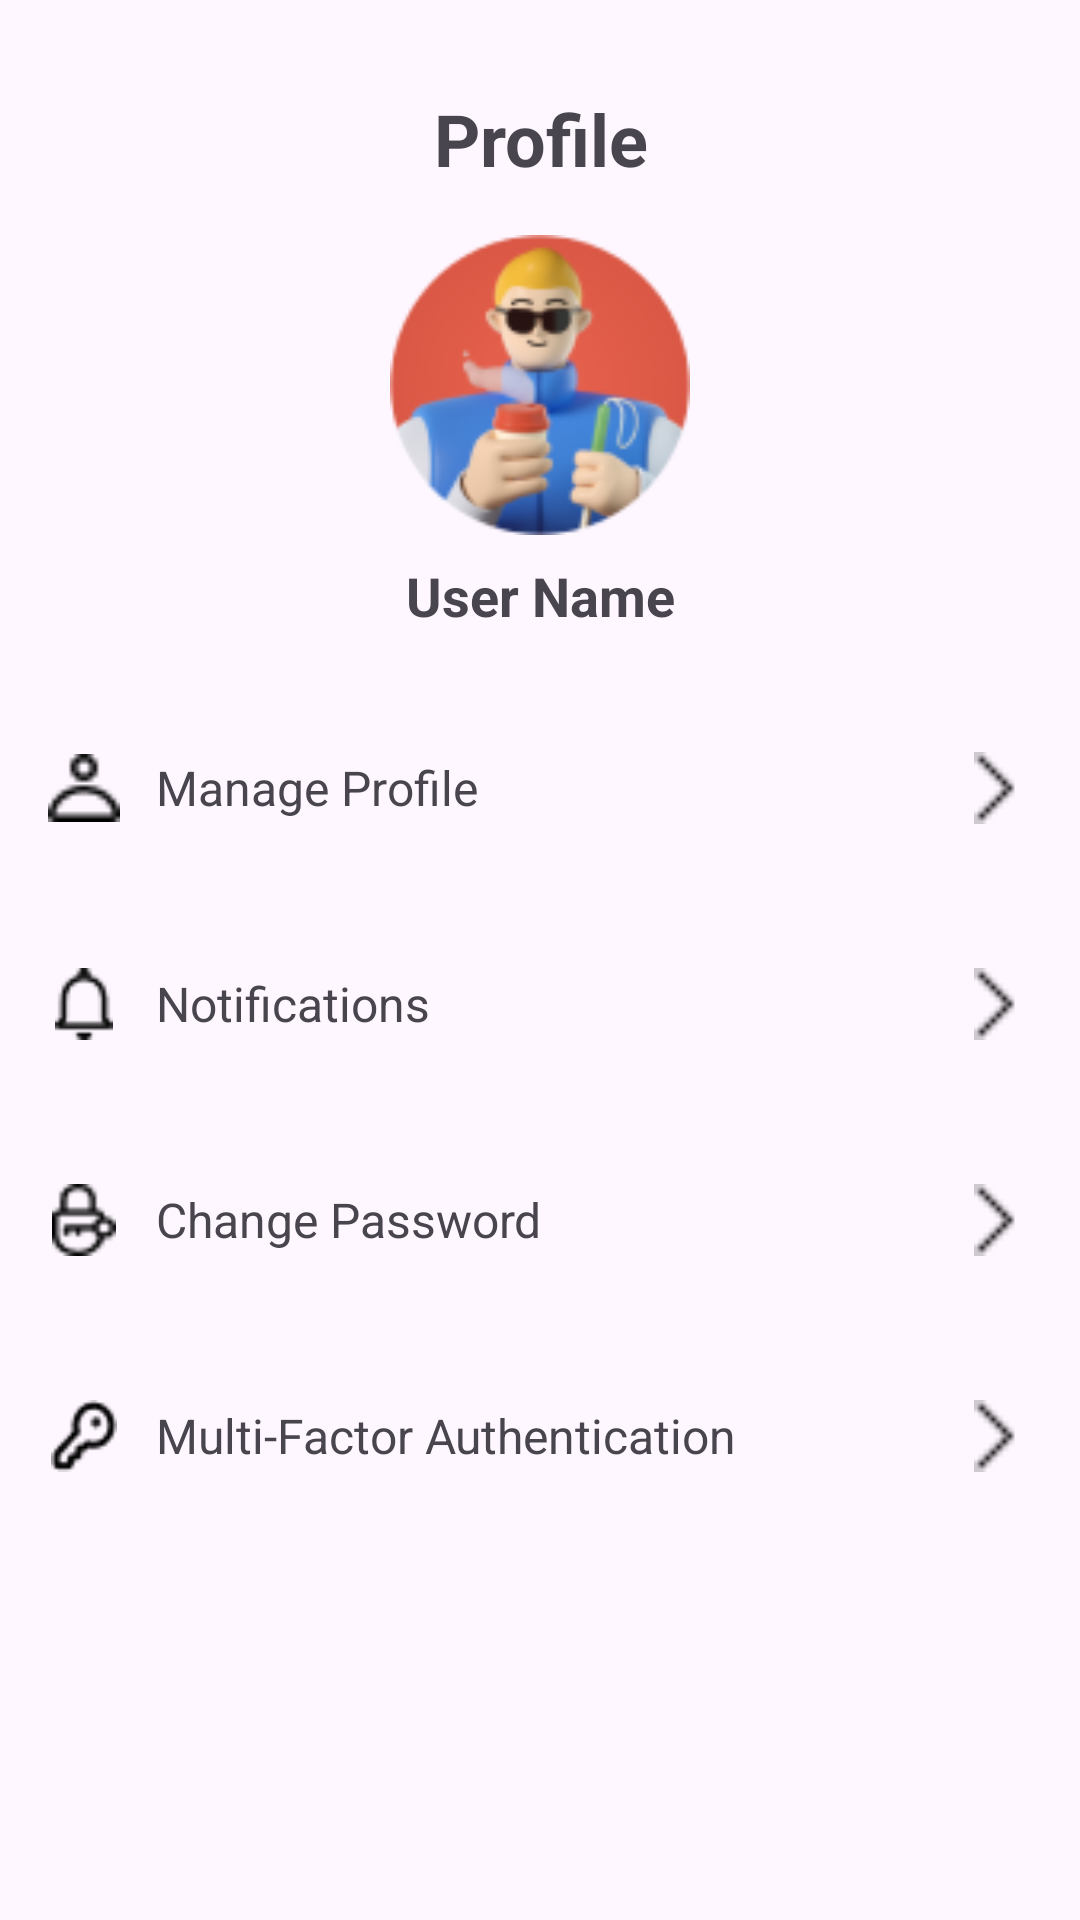

Screen size 1080px x 1920px. Icon name, then its center in pixels as [x,y]:
multiauthicon: [84,1436]
notiicon: [84,1004]
rightarrow: [994,788], [994,1004], [994,1220], [994,1436]
